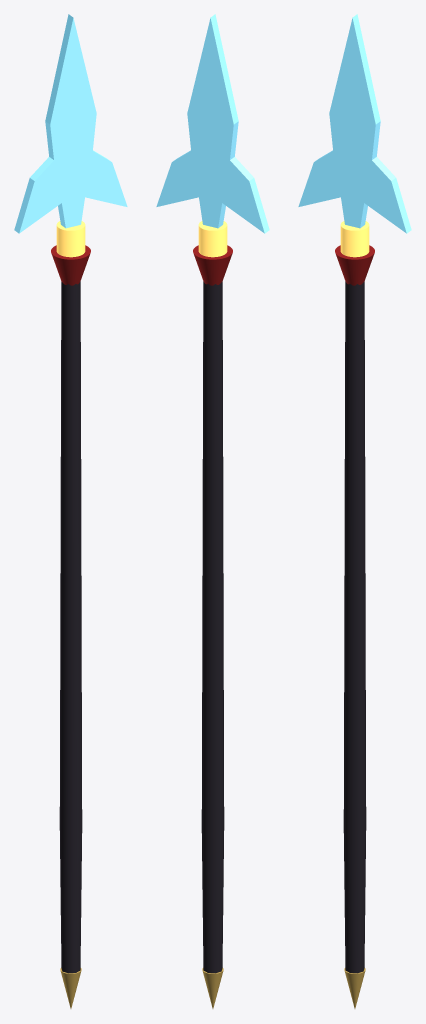
Rendered from partisan.glb.
3 renders of one model, left to right at view 1: azimuth 30°, elevation 25°; view 2: azimuth 150°, elevation 25°; view 3: azimuth 330°, elevation 25°, orthographic.
Visible parts, largest first — view 1: pt_shaft, pt_head, pt_collar, pt_tassel, pt_butt; view 2: pt_shaft, pt_head, pt_collar, pt_tassel, pt_butt; view 3: pt_shaft, pt_head, pt_collar, pt_tassel, pt_butt.
Boxes of the visible parts, <box> form: pt_shaft: <box>59,281,82,973</box>; pt_head: <box>14,14,127,233</box>; pt_collar: <box>56,221,85,257</box>; pt_tassel: <box>51,245,90,285</box>; pt_butt: <box>60,968,81,1008</box>; pt_shaft: <box>201,281,224,973</box>; pt_head: <box>156,14,269,233</box>; pt_collar: <box>198,221,227,257</box>; pt_tassel: <box>193,245,232,285</box>; pt_butt: <box>202,968,223,1008</box>; pt_shaft: <box>343,281,366,973</box>; pt_head: <box>298,14,411,233</box>; pt_collar: <box>340,221,369,257</box>; pt_tassel: <box>335,245,374,285</box>; pt_butt: <box>344,968,365,1008</box>.
Size of the model in its own units: 0.28 by 2.45 by 0.09.
